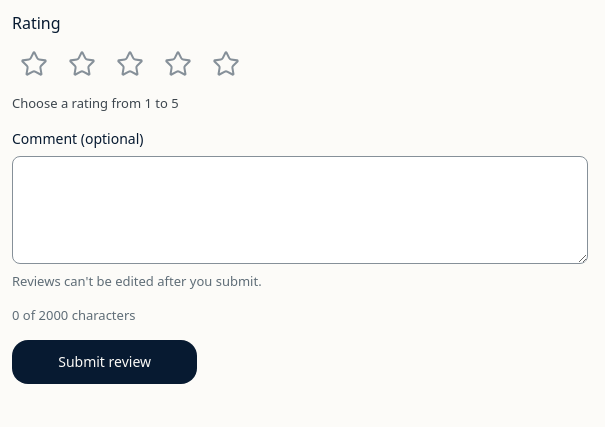
Test case: homeowner action forms › review sends a numeric rating
Later steps or results of the test are not shown.
Click the button "Submit review" at (105, 362), box 12,340 -> 197,384
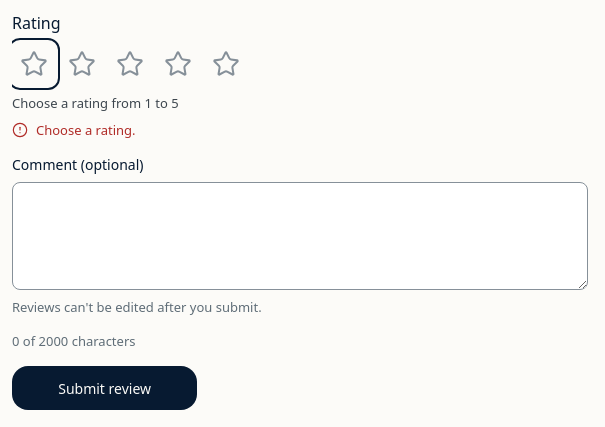
Result: the text "Choose a rating." is shown at 12,121 -> 136,139
